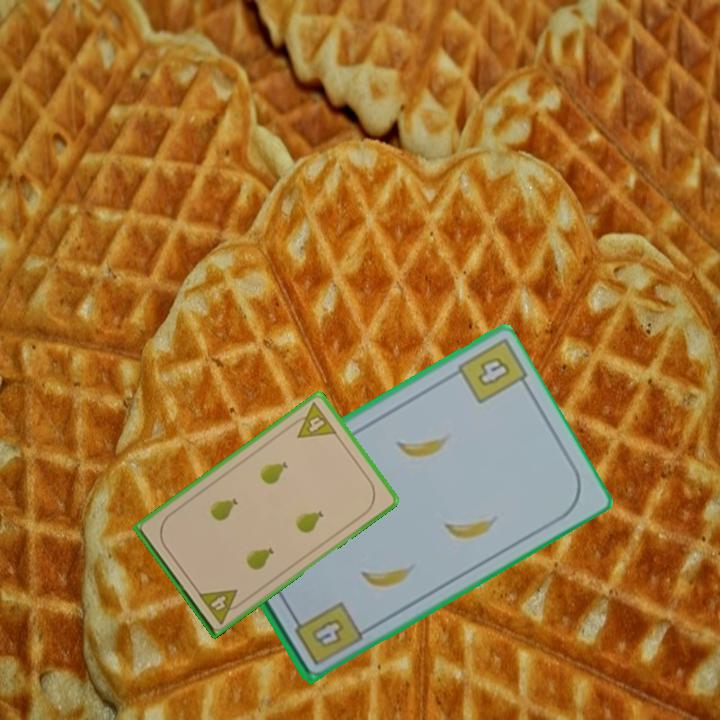4b: (287, 598, 365, 668), (474, 352, 514, 389)
4p: (286, 399, 340, 441), (194, 585, 247, 627)
